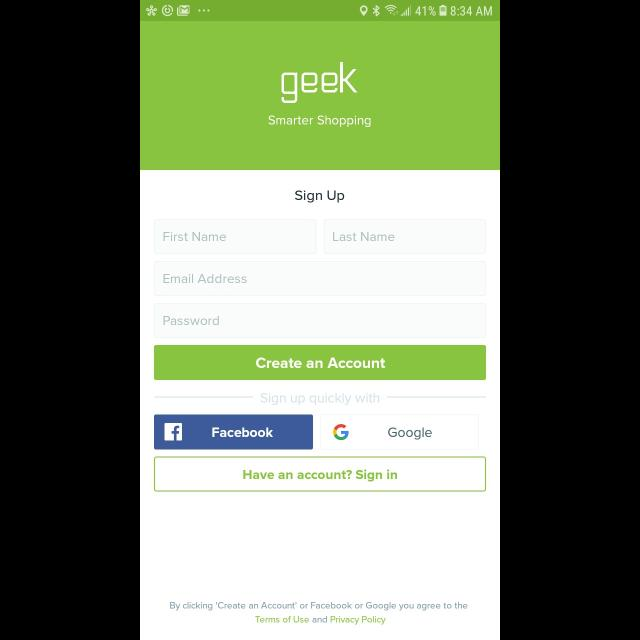input: (154, 304, 486, 338), (154, 262, 486, 296), (154, 220, 318, 254), (322, 220, 486, 254)
text: (170, 602, 468, 624), (282, 63, 358, 104), (260, 392, 380, 406), (268, 116, 372, 128), (164, 273, 248, 283), (333, 232, 395, 242), (164, 232, 226, 242), (295, 191, 345, 203), (164, 316, 220, 326)
textbutton: (154, 456, 486, 492), (154, 346, 486, 380), (320, 414, 480, 450), (154, 414, 314, 450)
uppertaskbar: (140, 1, 500, 22)
